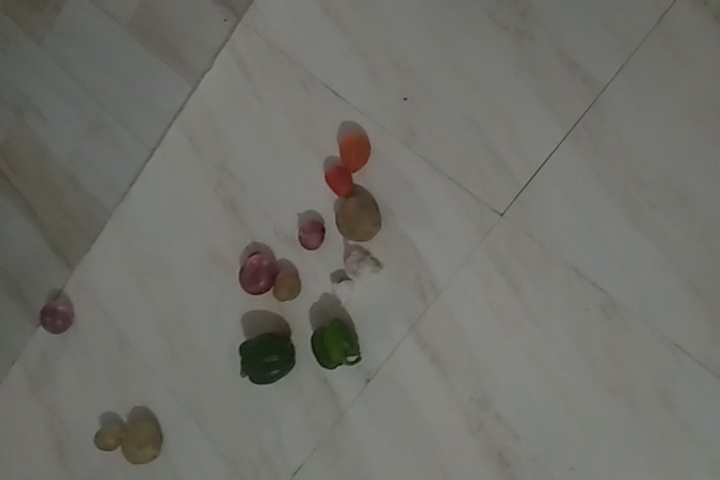capsicum: (238, 336, 291, 387), (308, 318, 356, 369), (346, 252, 386, 284)
onion: (243, 248, 276, 293), (296, 221, 335, 253), (35, 300, 75, 331)
potato: (331, 194, 382, 243), (120, 421, 156, 465), (273, 261, 305, 303), (92, 419, 125, 453)
tomato: (341, 129, 374, 176), (326, 159, 358, 203)
